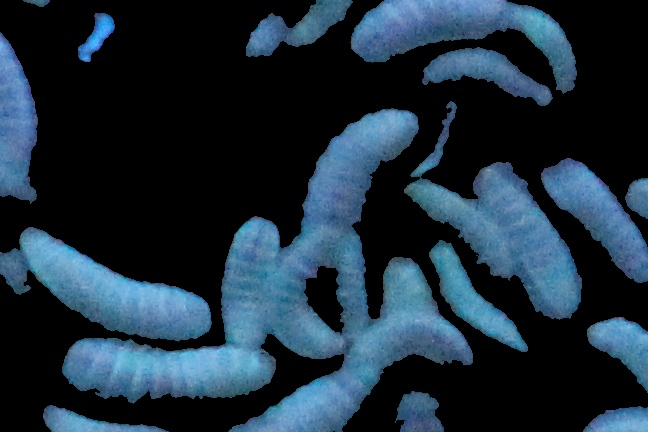larvae: (20, 220, 214, 342), (64, 335, 280, 415), (301, 105, 421, 240), (479, 163, 574, 318), (542, 155, 648, 285), (349, 1, 528, 68), (432, 242, 529, 354), (409, 182, 516, 282), (272, 232, 355, 355), (237, 376, 382, 432), (1, 25, 41, 222), (417, 48, 552, 104), (508, 1, 587, 95), (350, 317, 473, 373), (223, 208, 274, 343), (586, 310, 648, 395), (378, 251, 445, 323), (270, 1, 357, 48)
